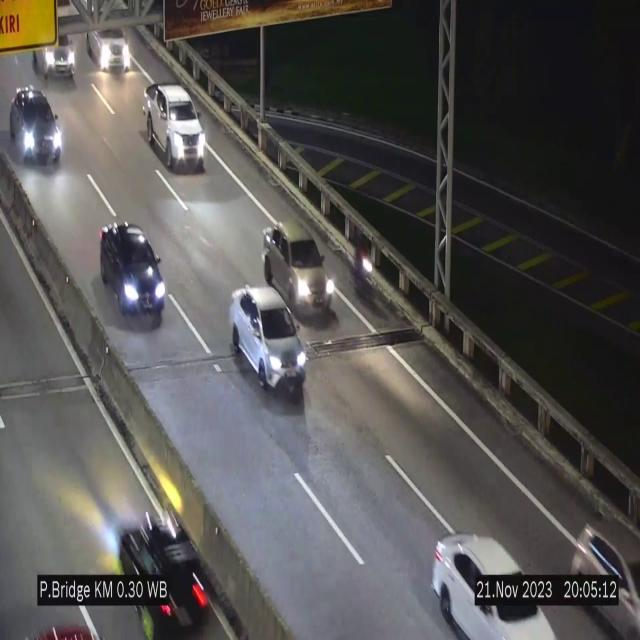Car: (261, 216, 337, 322), (229, 287, 307, 389), (100, 224, 166, 323), (144, 84, 206, 170), (10, 87, 62, 163)
Motorcycle: (348, 225, 376, 307)
